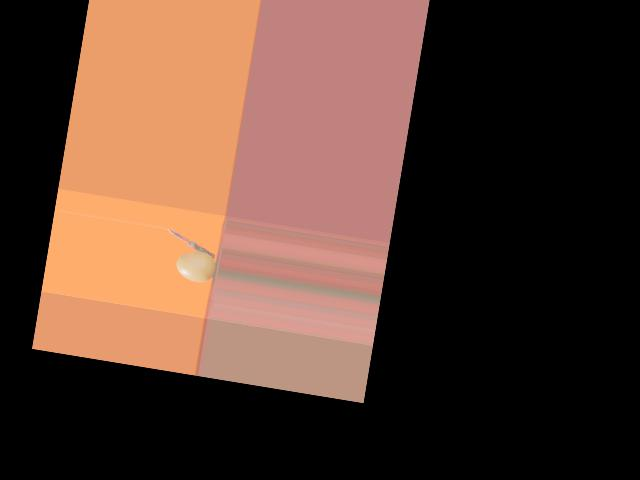egg: (175, 248, 217, 283)
